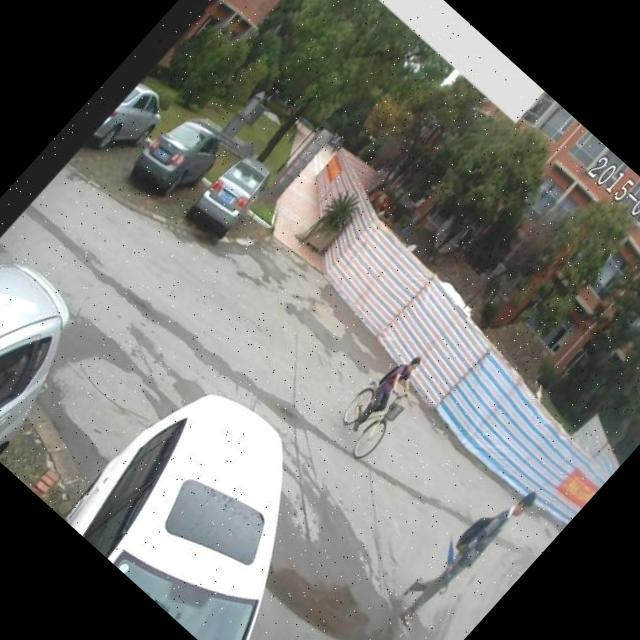person: (381, 464, 548, 640), (341, 341, 432, 438)
